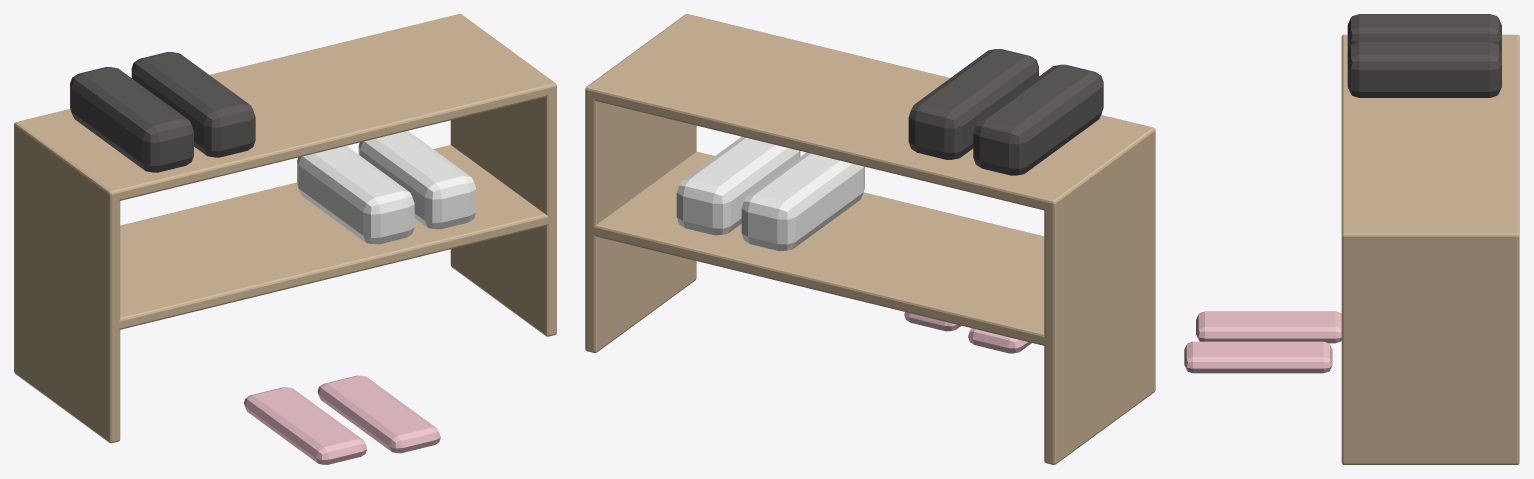
Rendered from v2_shoe_rack.fbx.
3 renders of one model, left to right at view 1: azimuth 30°, elevation 25°; view 2: azimuth 150°, elevation 25°; view 3: azimuth 270°, elevation 25°, orthographic. The views are drawn at different scales.
Parts seen in each view (by area): view 1: RackTop, RackMid, RackSide, RackSide.001, MomShoeL, GirlSneakerL, MomShoeR, GirlSneakerR, SlipperR, SlipperL; view 2: RackTop, RackMid, RackSide, RackSide.001, MomShoeL, GirlSneakerL, MomShoeR, GirlSneakerR, SlipperL; view 3: RackSide.001, RackTop, MomShoeR, SlipperR, SlipperL, MomShoeL, RackMid.
Boxes of the visible parts, left/top/right/bottom form: RackTop: left=14, top=14, right=556, bottom=201; RackMid: left=14, top=145, right=556, bottom=330; RackSide: left=14, top=132, right=120, bottom=443; RackSide.001: left=450, top=92, right=556, bottom=336; MomShoeL: left=70, top=67, right=193, bottom=172; GirlSneakerL: left=297, top=145, right=414, bottom=244; MomShoeR: left=131, top=52, right=255, bottom=157; GirlSneakerR: left=358, top=131, right=476, bottom=229; SlipperR: left=317, top=375, right=440, bottom=453; SlipperL: left=244, top=387, right=366, bottom=464; RackTop: left=585, top=14, right=1155, bottom=210; RackMid: left=585, top=151, right=1155, bottom=346; RackSide: left=1044, top=137, right=1155, bottom=464; RackSide.001: left=585, top=96, right=696, bottom=352; MomShoeL: left=973, top=64, right=1103, bottom=175; GirlSneakerL: left=741, top=152, right=864, bottom=251; MomShoeR: left=908, top=49, right=1038, bottom=159; GirlSneakerR: left=676, top=136, right=800, bottom=235; SlipperL: left=968, top=328, right=1031, bottom=353; RackSide.001: left=1341, top=242, right=1519, bottom=464; RackTop: left=1341, top=34, right=1519, bottom=242; MomShoeR: left=1347, top=41, right=1501, bottom=97; SlipperR: left=1184, top=341, right=1332, bottom=373; SlipperL: left=1196, top=311, right=1341, bottom=343; MomShoeL: left=1347, top=14, right=1501, bottom=51; RackMid: left=1341, top=354, right=1519, bottom=361.
Bounding box in the file's own units: 0.8 × 0.51 × 0.565.
